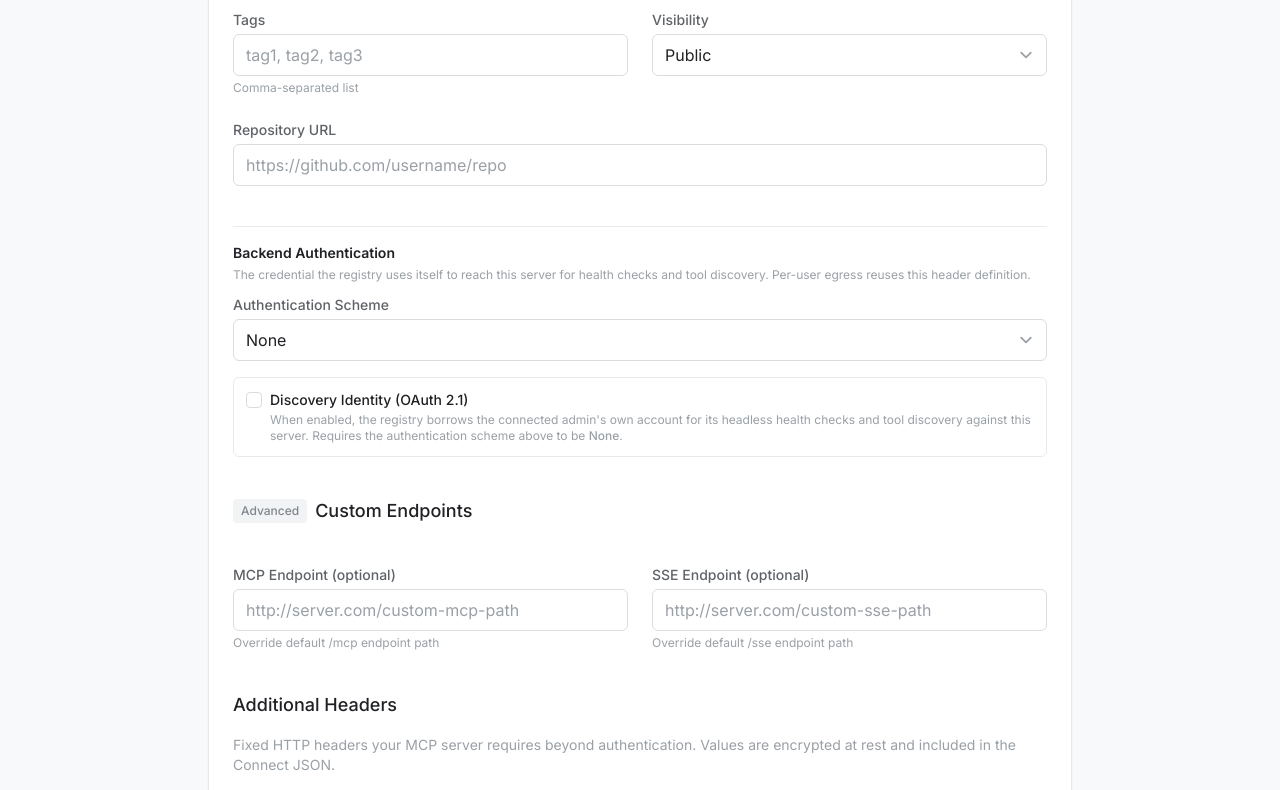
it: RegisterPage › reveals the OAuth 2.1 discovery config when the discovery toggle is checked
(page scrolled)
Click the checkbox labelled "Discovery Identity (OAuth 2.1)" at (254, 400), box [246, 392, 262, 408]
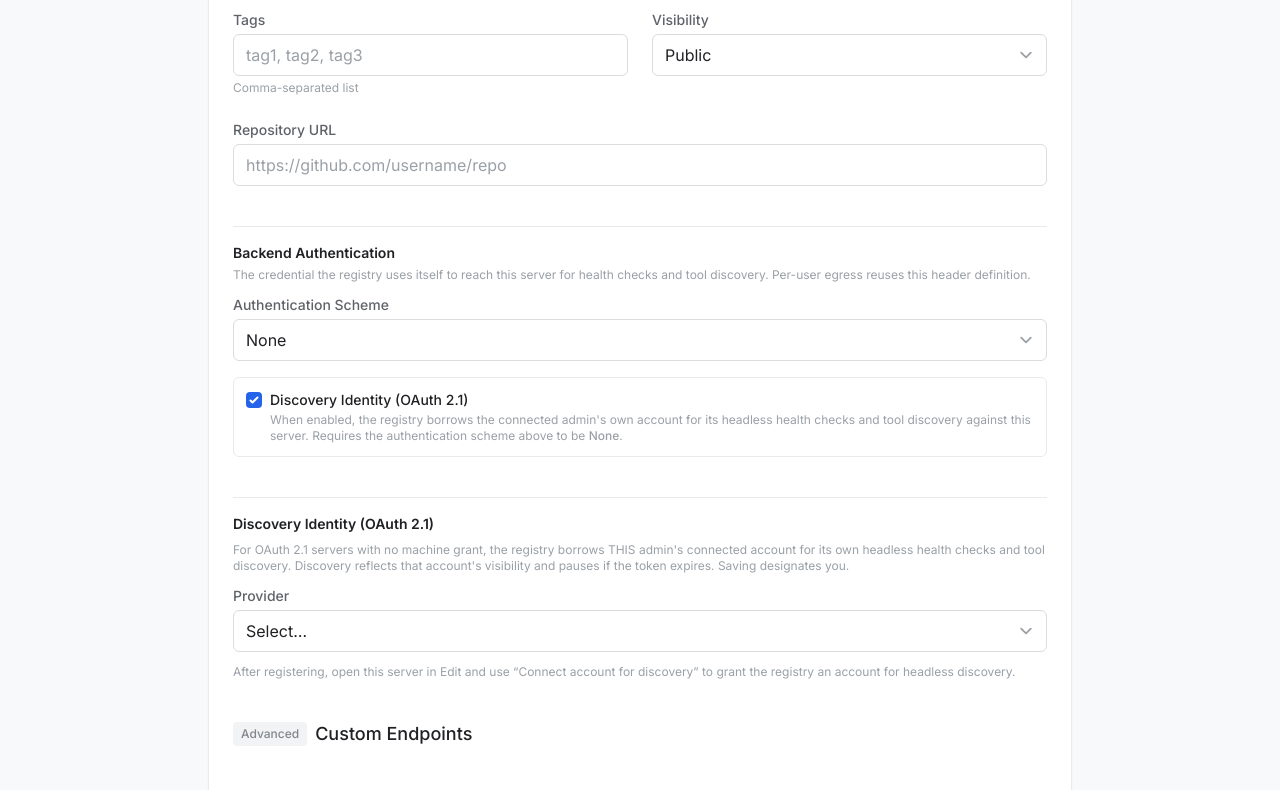
Now the heading "Discovery Identity (OAuth 2.1)" is shown, box [233, 515, 434, 532]
